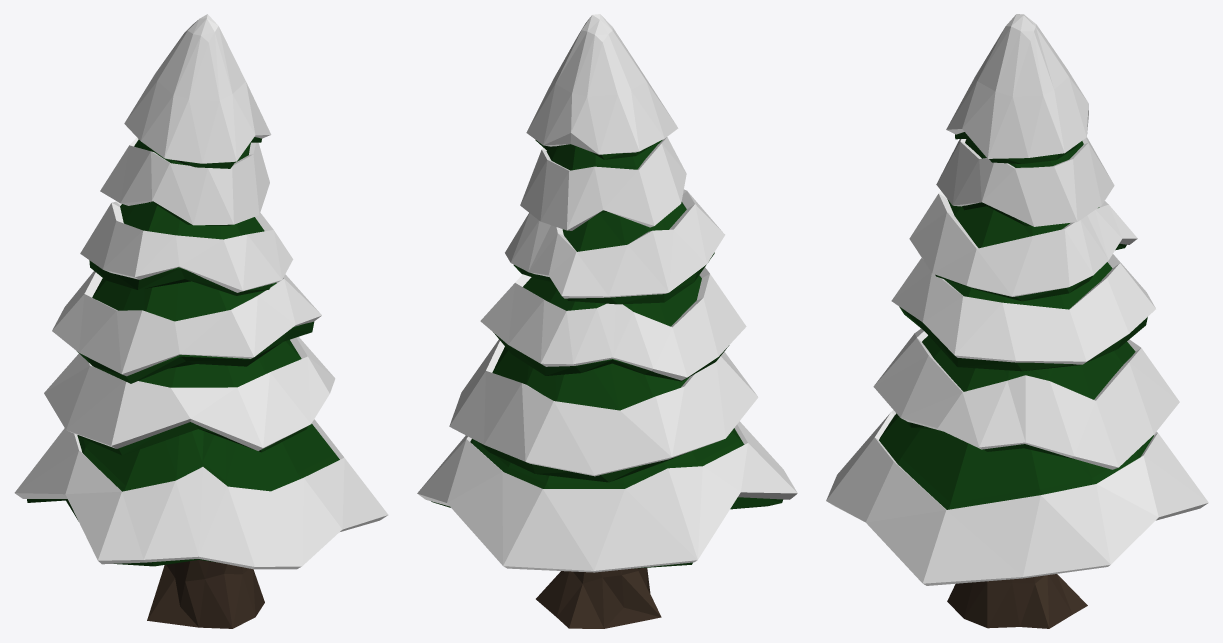
The model's file is pine_tree_1_snow.glb.
3 views of the same model, side by side, from view 1: azimuth 30°, elevation 25°; view 2: azimuth 150°, elevation 25°; view 3: azimuth 270°, elevation 25° (orthographic).
Visible parts, largest first — view 1: pine_tree_1_snow_snow, pine_tree_1_snow; view 2: pine_tree_1_snow_snow, pine_tree_1_snow; view 3: pine_tree_1_snow_snow, pine_tree_1_snow.
Part boxes in pixels (bbox=[...]): pine_tree_1_snow_snow: bbox=[14, 14, 388, 569]; pine_tree_1_snow: bbox=[27, 137, 339, 628]; pine_tree_1_snow_snow: bbox=[417, 14, 797, 572]; pine_tree_1_snow: bbox=[431, 140, 782, 628]; pine_tree_1_snow_snow: bbox=[826, 14, 1208, 585]; pine_tree_1_snow: bbox=[879, 132, 1153, 628].
Bounding box in the file's own units: 2.92 × 5.53 × 3.2.
